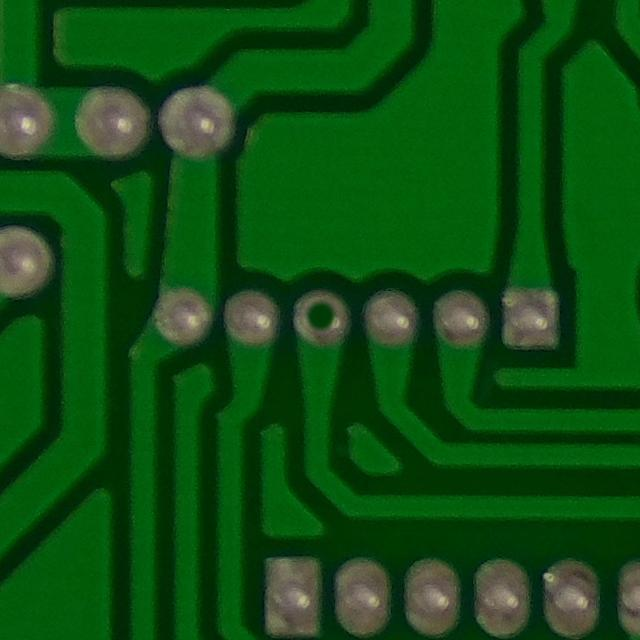missing_hole: (281, 284, 359, 357)
